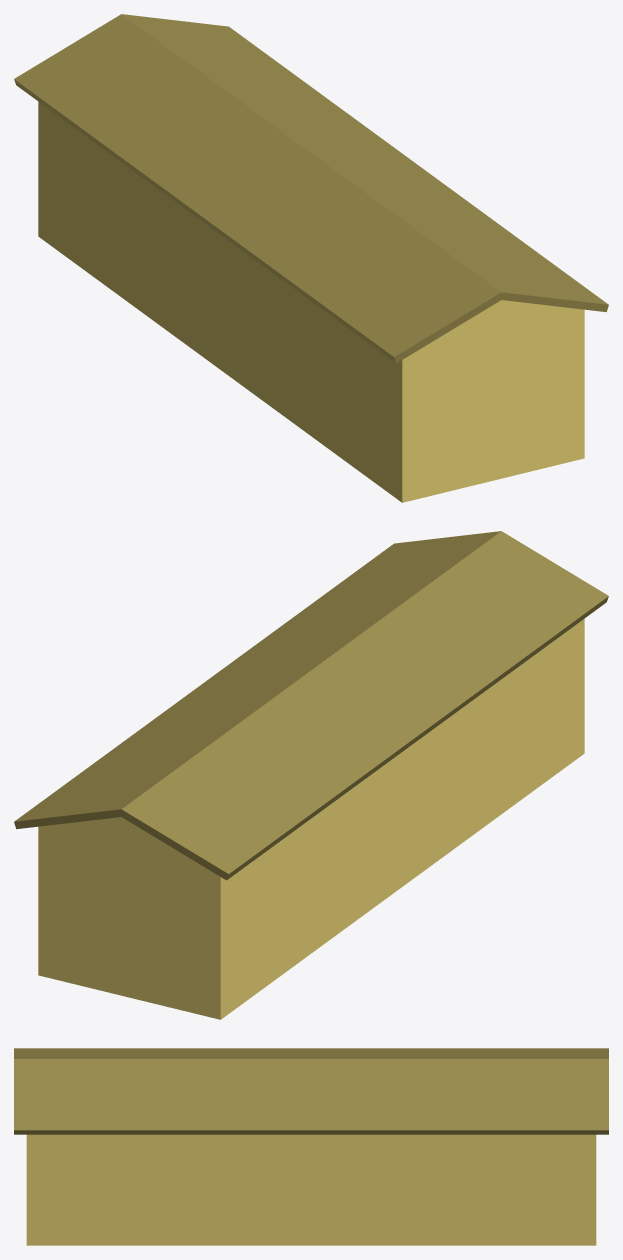
Rendered from result.glb.
The picture shows the model from 3 angles, top to bottom: view 1: azimuth 30°, elevation 25°; view 2: azimuth 150°, elevation 25°; view 3: azimuth 270°, elevation 25°; orthographic projection. The views are drawn at different scales.
Parts seen in each view (by area): view 1: 11301f56-9e1d-4484-832a-aeb42e6d0587__undefined (×2), edd5e53a-5855-4915-9570-2711cdb4575b__undefined; view 2: 11301f56-9e1d-4484-832a-aeb42e6d0587__undefined (×2), edd5e53a-5855-4915-9570-2711cdb4575b__undefined; view 3: edd5e53a-5855-4915-9570-2711cdb4575b__undefined, 11301f56-9e1d-4484-832a-aeb42e6d0587__undefined (×2).
Part boxes in pixels (box(x1,y1,x2,y2)): 11301f56-9e1d-4484-832a-aeb42e6d0587__undefined (×2): box(14, 14, 608, 363); edd5e53a-5855-4915-9570-2711cdb4575b__undefined: box(38, 102, 584, 502); 11301f56-9e1d-4484-832a-aeb42e6d0587__undefined (×2): box(14, 531, 608, 880); edd5e53a-5855-4915-9570-2711cdb4575b__undefined: box(38, 619, 584, 1019); edd5e53a-5855-4915-9570-2711cdb4575b__undefined: box(26, 1134, 596, 1245); 11301f56-9e1d-4484-832a-aeb42e6d0587__undefined (×2): box(14, 1048, 608, 1134).
Size of the model in its own units: 772 by 667 by 2366.
